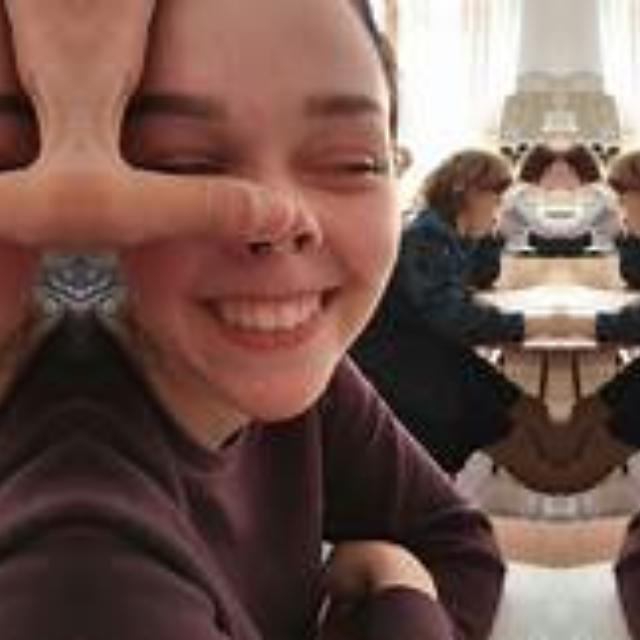person: (96, 6, 524, 640), (0, 6, 62, 640), (596, 6, 640, 640)
